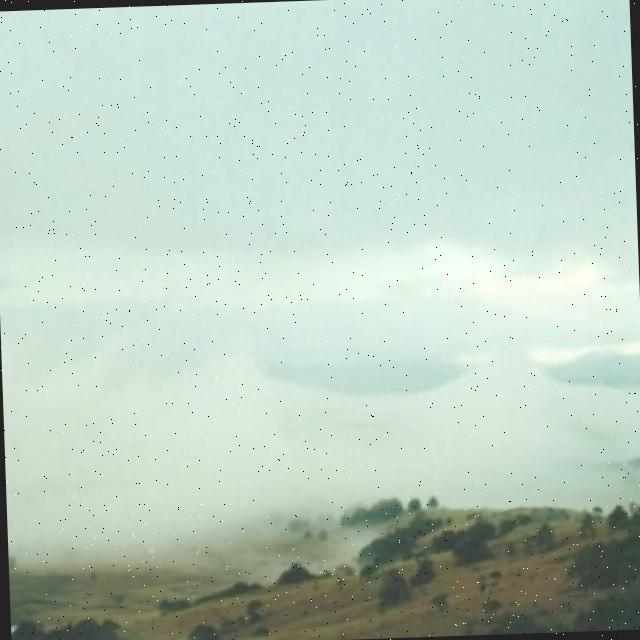Ns: (1, 126, 640, 468)
